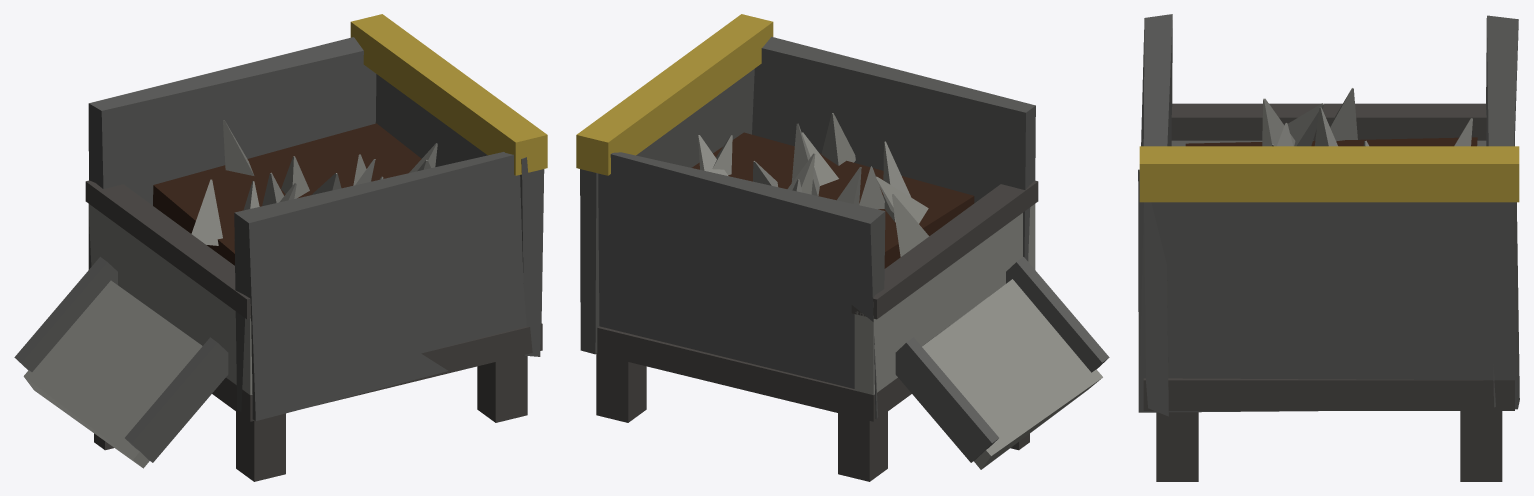
File: util_caltrops.glb
3 renders of one model, left to right at view 1: azimuth 30°, elevation 25°; view 2: azimuth 150°, elevation 25°; view 3: azimuth 270°, elevation 25°, orthographic. The views are drawn at different scales.
Visible parts, largest first — view 1: util_caltrops; view 2: util_caltrops; view 3: util_caltrops.
Boxes of the visible parts, box(x1,y1,x2,y2) form: util_caltrops: box(14, 14, 547, 481); util_caltrops: box(576, 14, 1109, 481); util_caltrops: box(1138, 14, 1519, 481).
Size of the model in its own units: 0.6166 by 0.425 by 0.4524.
